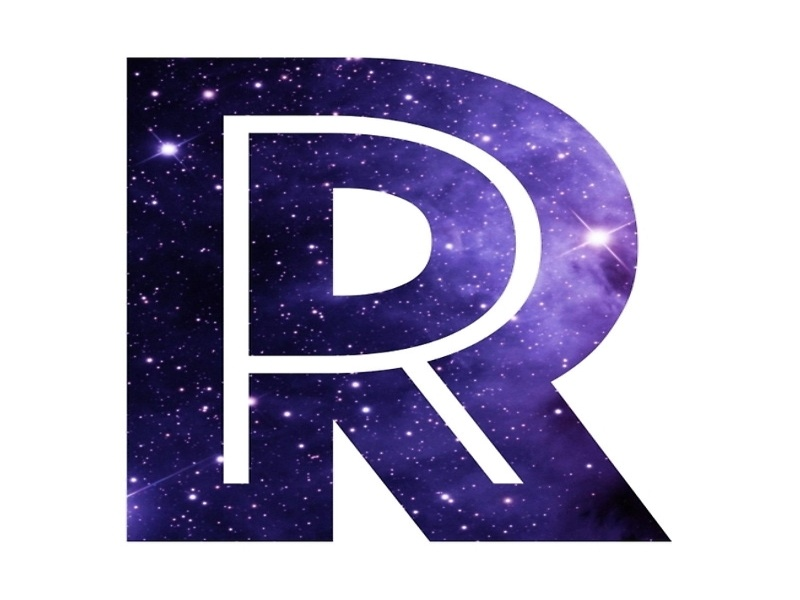letter: (86, 24, 713, 575), (206, 80, 546, 521)
